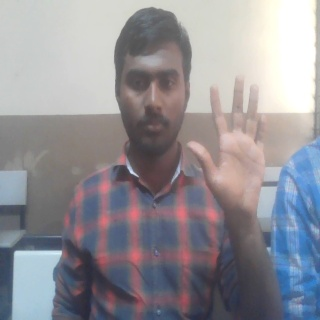Face: (111, 8, 192, 157)
Hello: (185, 73, 269, 222)
